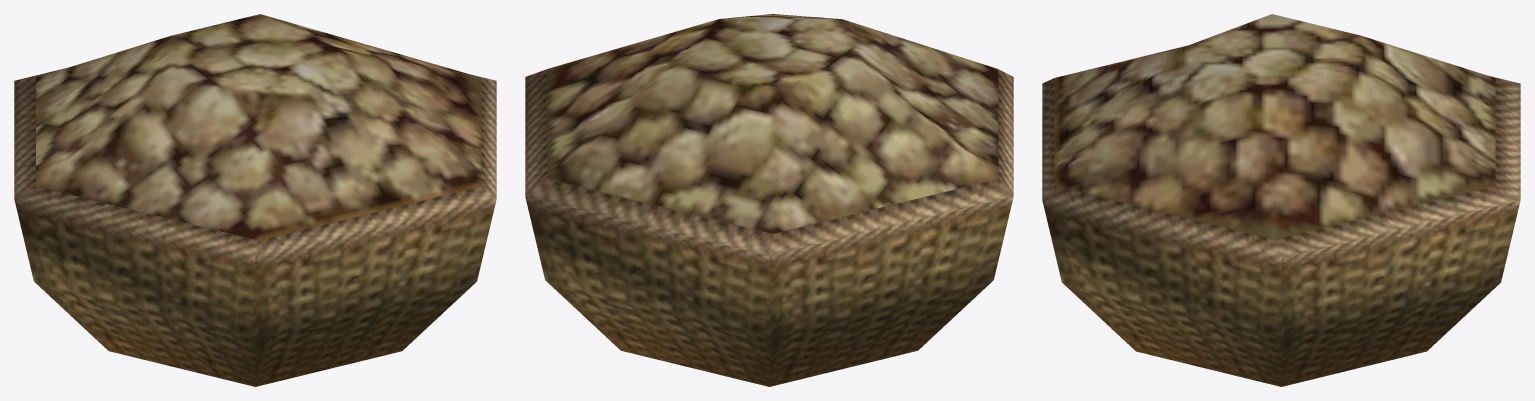
Rendered from cj_potato_basket.glb.
3 views of the same model, side by side, from view 1: azimuth 30°, elevation 25°; view 2: azimuth 150°, elevation 25°; view 3: azimuth 270°, elevation 25° (orthographic). The views are drawn at different scales.
Visible parts, largest first — view 1: CJ_Potato_basket; view 2: CJ_Potato_basket; view 3: CJ_Potato_basket.
Boxes of the visible parts, box(x1,y1,x2,y2) form: CJ_Potato_basket: box(14, 14, 496, 386); CJ_Potato_basket: box(525, 14, 1013, 386); CJ_Potato_basket: box(1042, 14, 1520, 386).
Size of the model in its own units: 0.6096 by 0.3153 by 0.528.
Materials: 1 (1 with a texture image).
